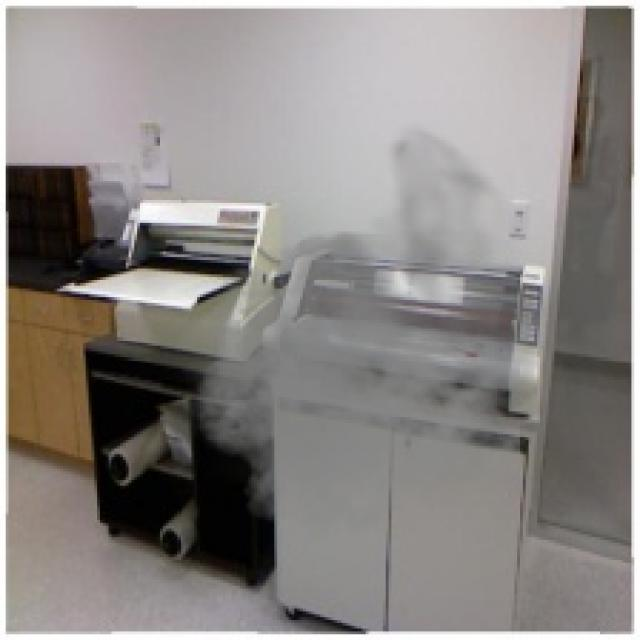smoke: (168, 120, 568, 546)
